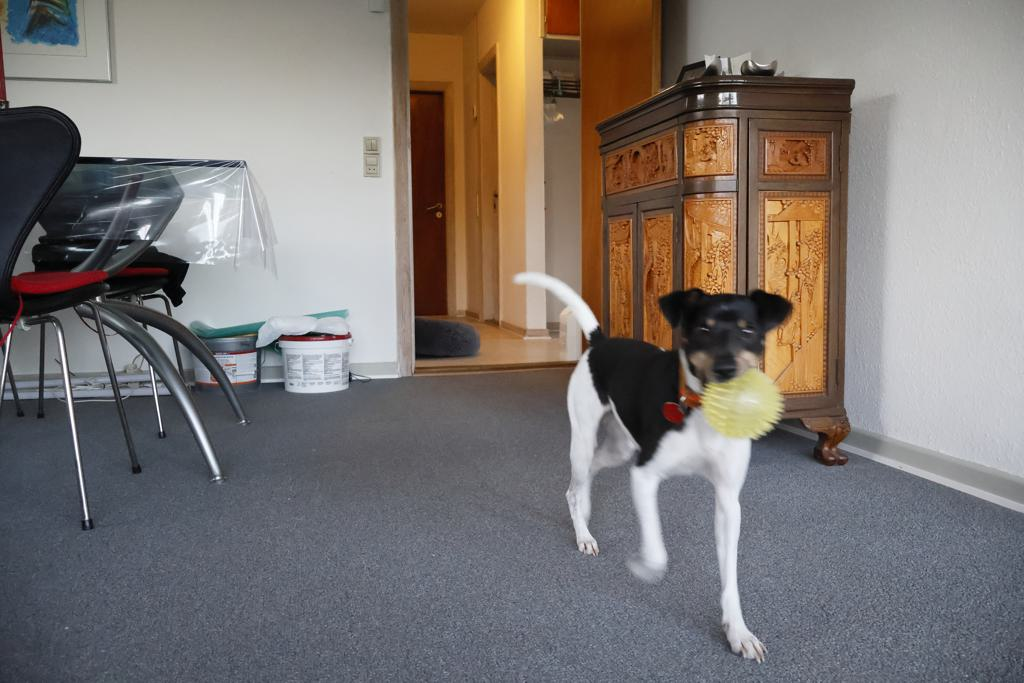Dog: (503, 251, 799, 670)
